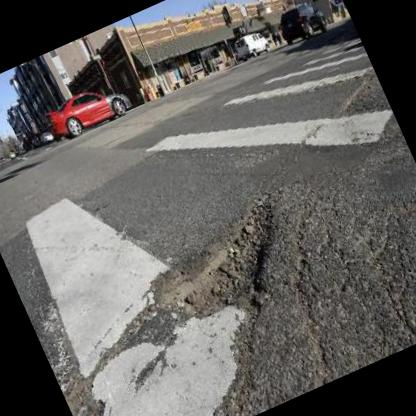pothole: (119, 184, 313, 351)
